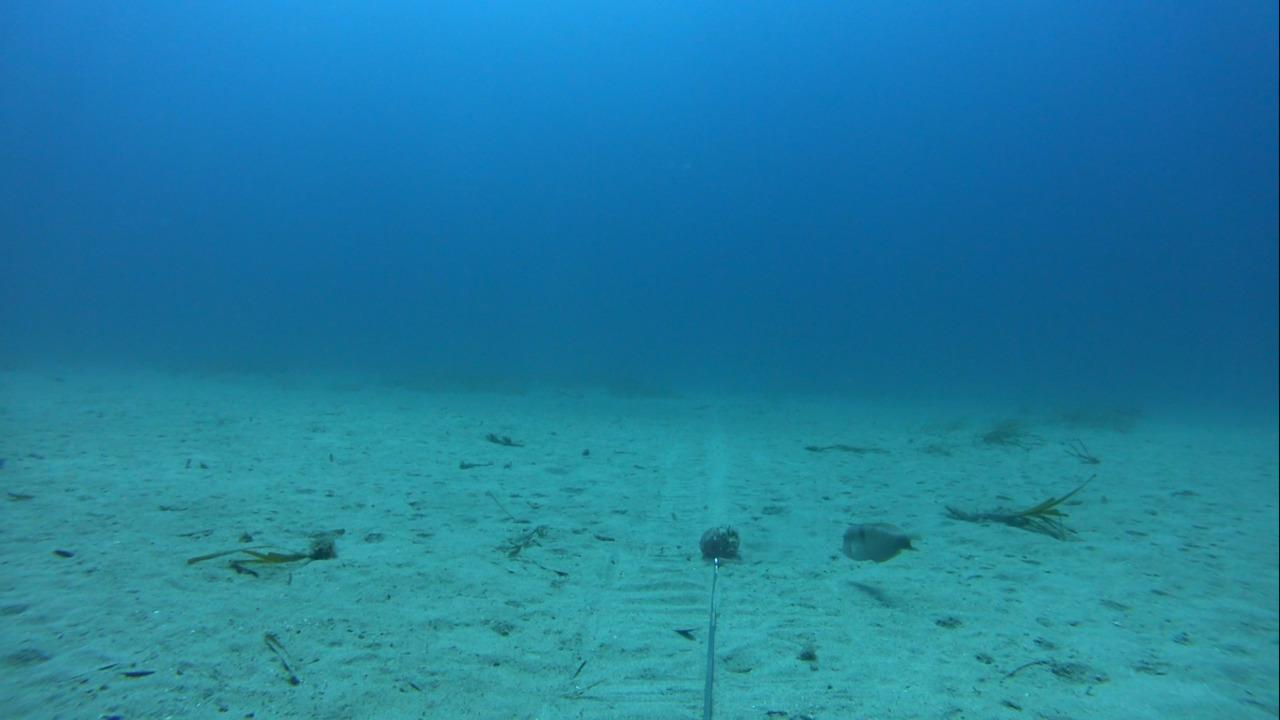raor: (836, 520, 923, 564)
